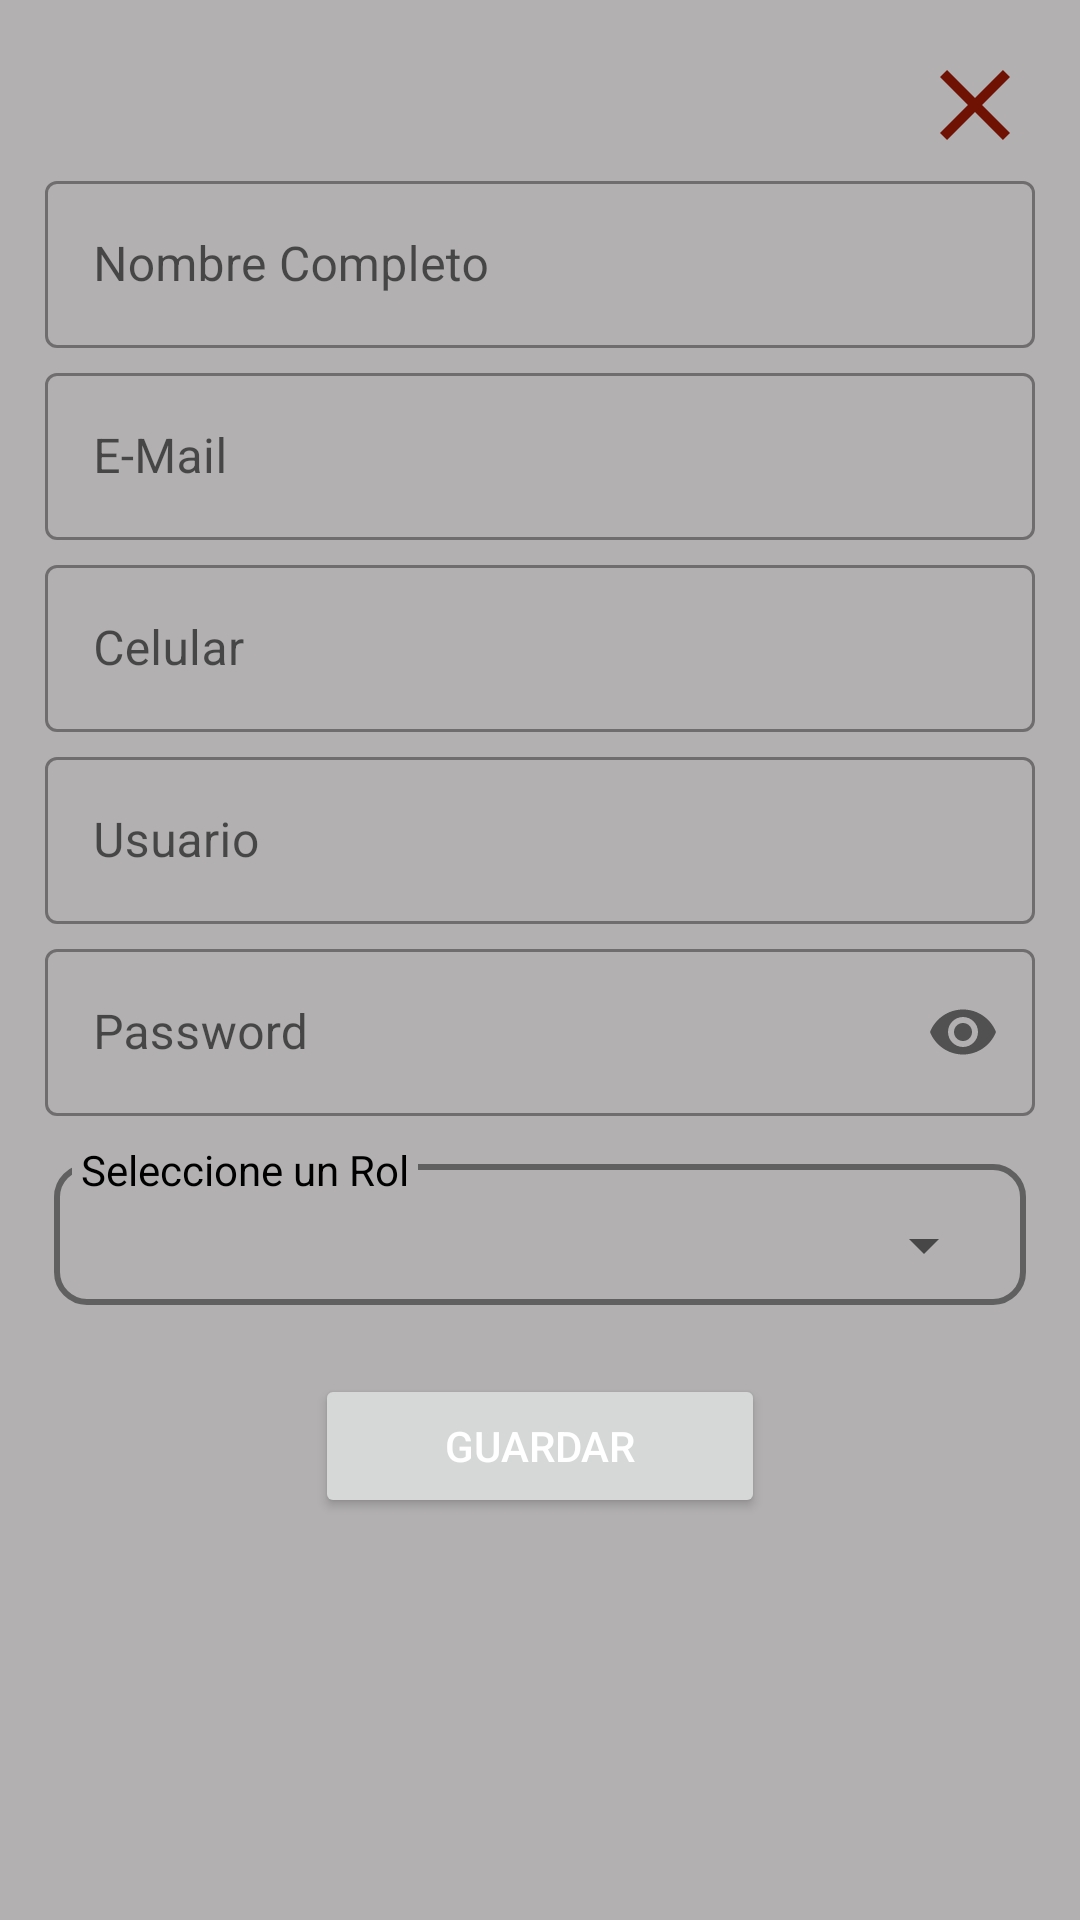

Where icons sit on this 1080x1920 app screen, as bbox=(x1, y1, x2, y2):
close: bbox=(940, 70, 1010, 140)
